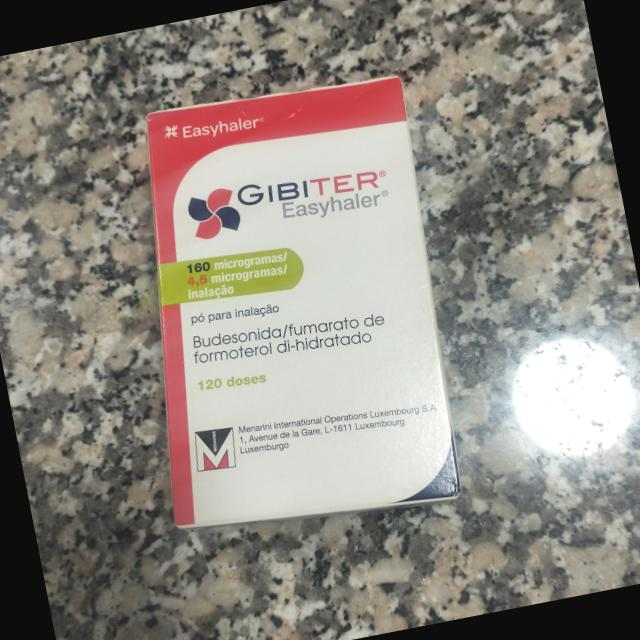box: (149, 76, 459, 523)
